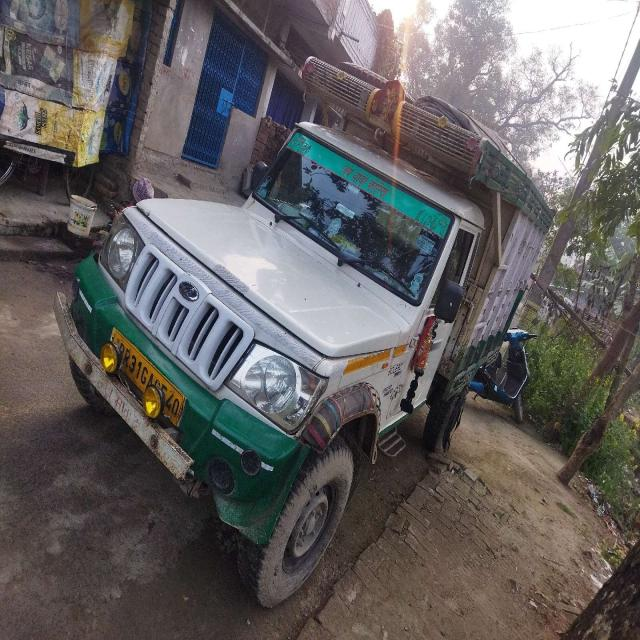light_vehicle: (51, 116, 492, 533)
